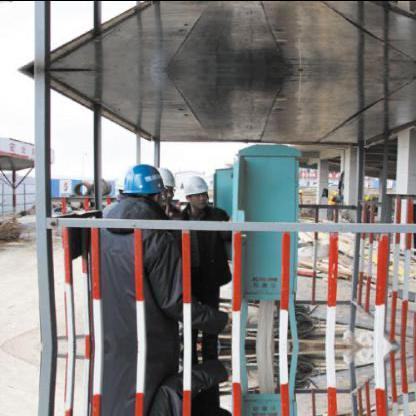Helmet: (118, 154, 168, 218), (171, 168, 214, 212)
